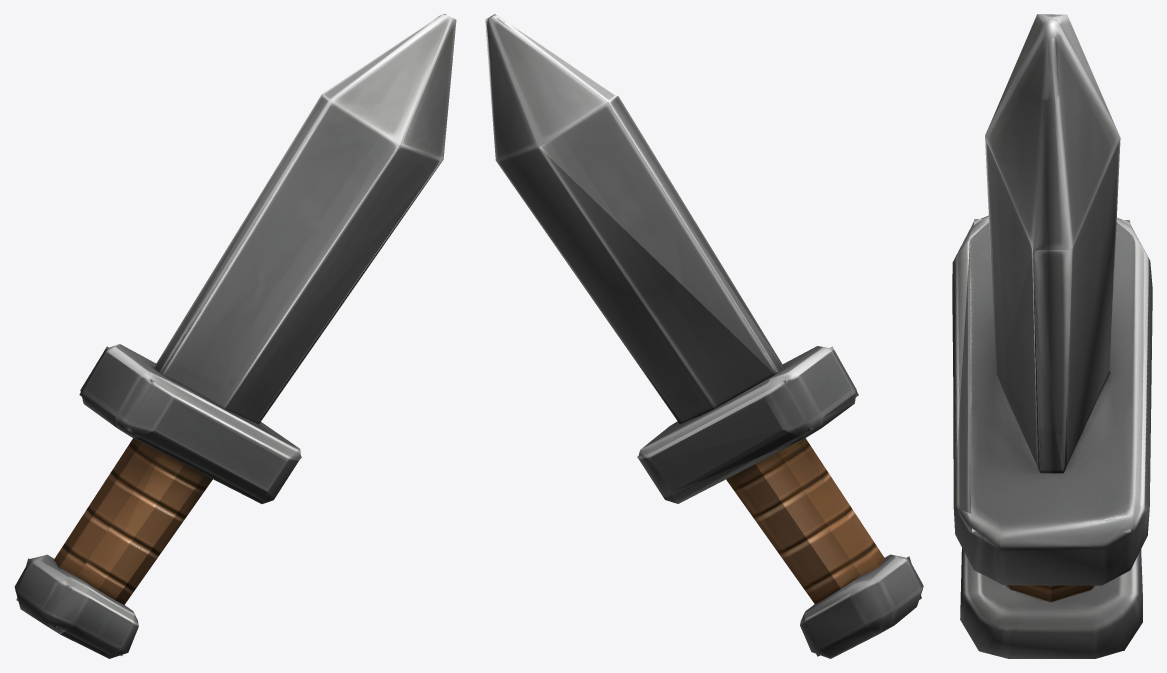
File: Meshy_AI_Greysteel_Dagger_0716122101_texture.fbx
3 renders of one model, left to right at view 1: azimuth 30°, elevation 25°; view 2: azimuth 150°, elevation 25°; view 3: azimuth 270°, elevation 25°, orthographic. The views are drawn at different scales.
Visible parts, largest first — view 1: mesh_node; view 2: mesh_node; view 3: mesh_node.
Boxes of the visible parts, left/top/right/bottom form: mesh_node: left=14, top=14, right=456, bottom=658; mesh_node: left=485, top=14, right=923, bottom=658; mesh_node: left=952, top=14, right=1152, bottom=658.
Size of the model in its own units: 81.64 by 100 by 19.78.
1 material, 1 textured.
